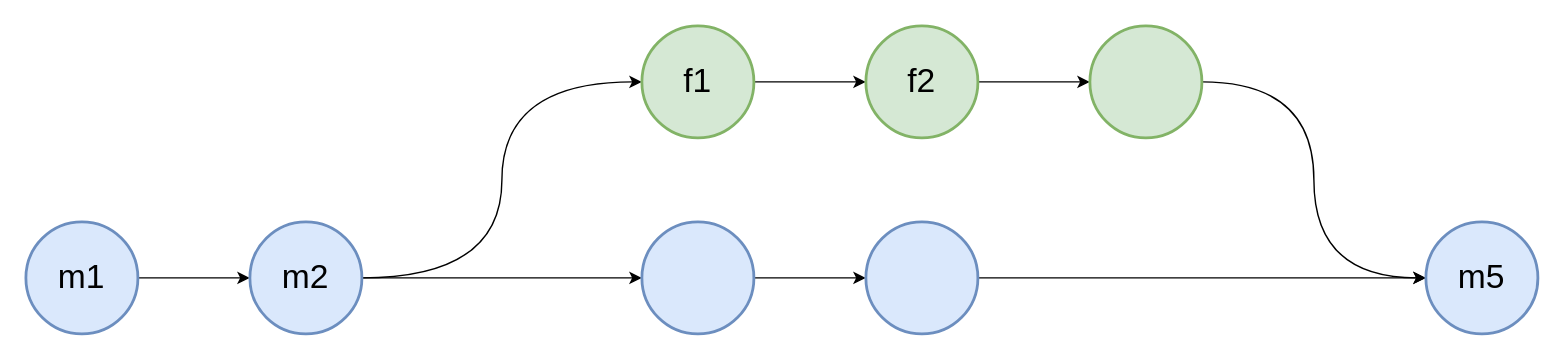
The diagram is 1562 pixels wide and 358 high, and some of its shapes have lost their labels. The shapes that lost their labels are listed below. From the top down, each one's centre as x and y in pixels, then its label:
At (x=1145, y=81): "f3".
At (x=697, y=277): "m3".
At (x=921, y=277): "m4".
